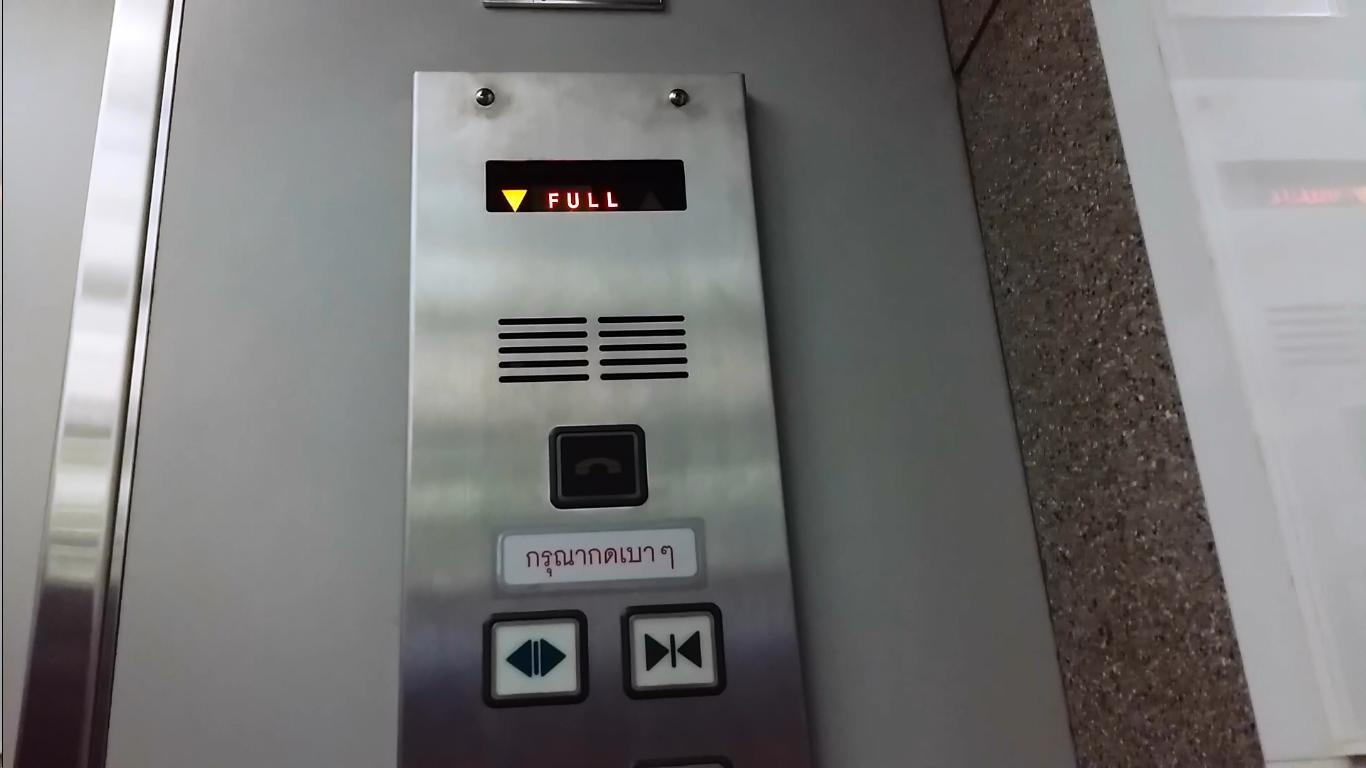call: (545, 421, 653, 513)
close: (618, 597, 732, 705)
led: (477, 152, 692, 222)
open: (483, 609, 592, 709)
